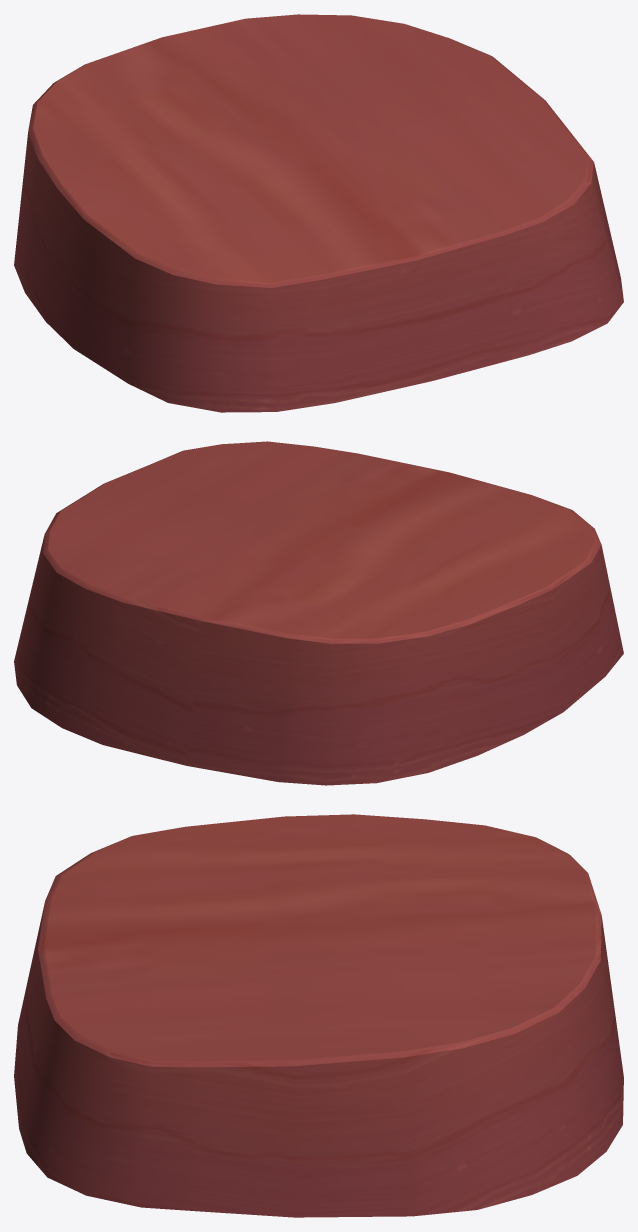
Rendered from SM_LStone_05.fbx.
The picture shows the model from 3 angles, top to bottom: view 1: azimuth 30°, elevation 25°; view 2: azimuth 150°, elevation 25°; view 3: azimuth 270°, elevation 25°; orthographic projection. The views are drawn at different scales.
Visible parts, largest first — view 1: SM_LStone_07; view 2: SM_LStone_07; view 3: SM_LStone_07.
Boxes of the visible parts, x1=… form: SM_LStone_07: x1=14, y1=14, x2=623, y2=412; SM_LStone_07: x1=14, y1=441, x2=623, y2=785; SM_LStone_07: x1=14, y1=814, x2=623, y2=1217.
Size of the model in its own units: 2192 by 623 by 2113.
